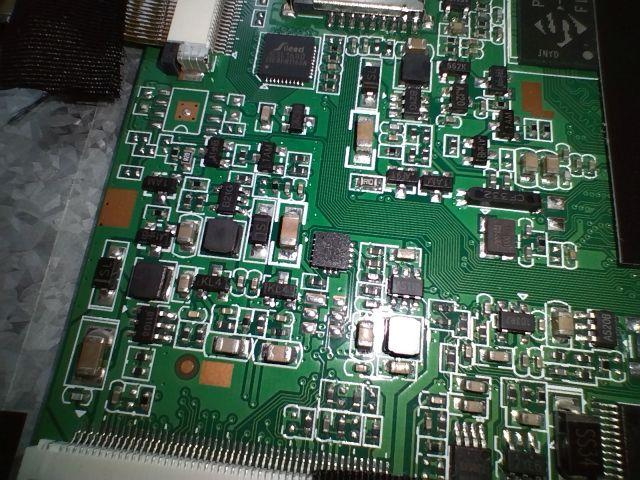capacitor: (69, 310, 112, 391), (276, 196, 306, 268), (350, 100, 378, 173), (353, 106, 378, 174), (547, 297, 578, 350)
resistor: (126, 337, 161, 368)
